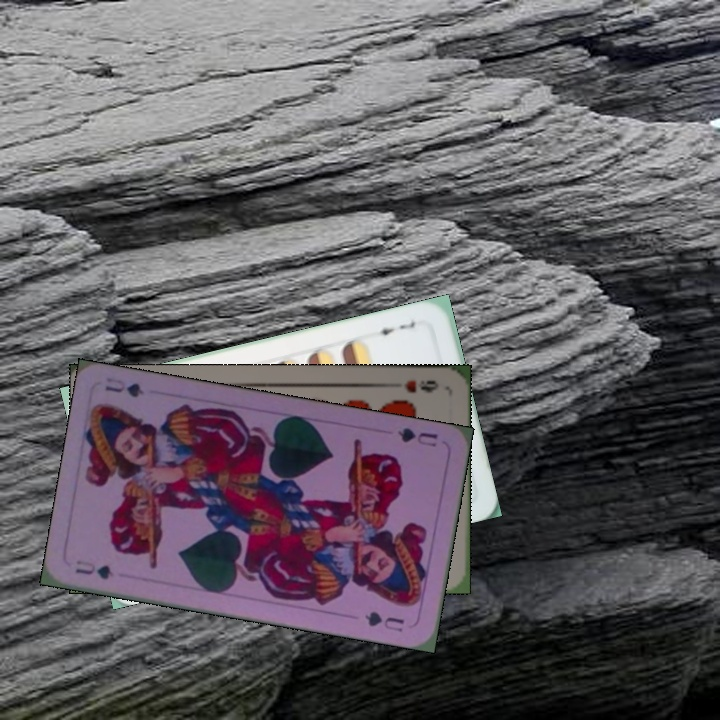E7: (370, 315, 419, 338)
GU: (393, 423, 440, 450), (71, 556, 117, 582)
H9: (400, 376, 441, 395)
